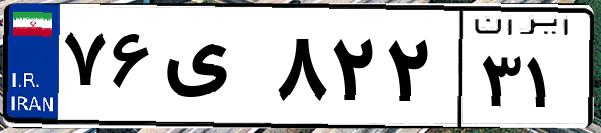1: (525, 38, 570, 115)
2: (385, 28, 445, 110), (330, 28, 385, 110)
3: (475, 38, 525, 113)
6: (110, 28, 158, 98)
7: (57, 26, 110, 100)
8: (270, 28, 330, 110)
ی: (158, 20, 270, 120)
